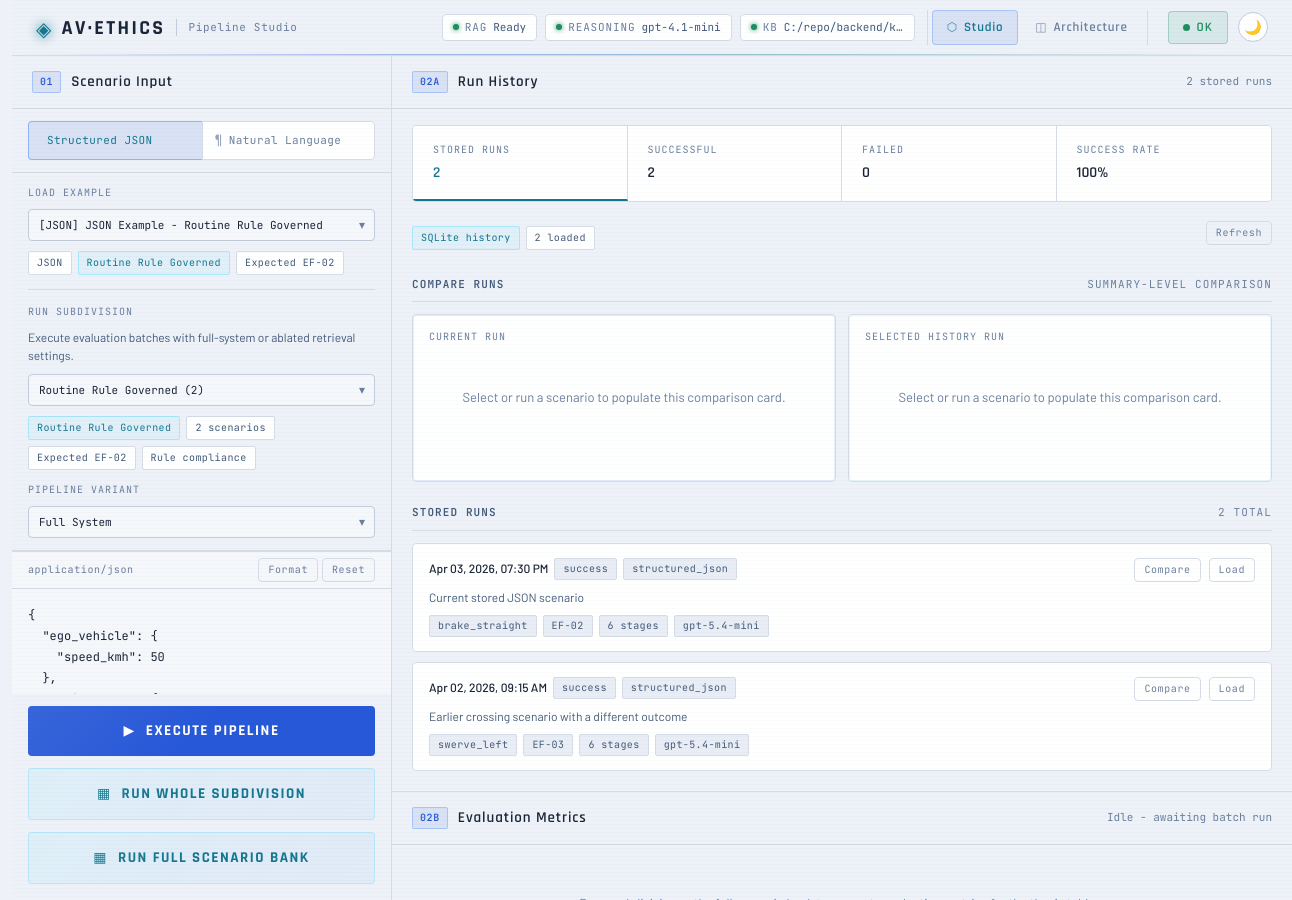
Test: App › passes the selected ablation variant to full-bank evaluation runs
Select "No RAG Ablation" in the dropdown labelled "Pipeline Variant" at x=202, y=522, box [28, 506, 375, 538]
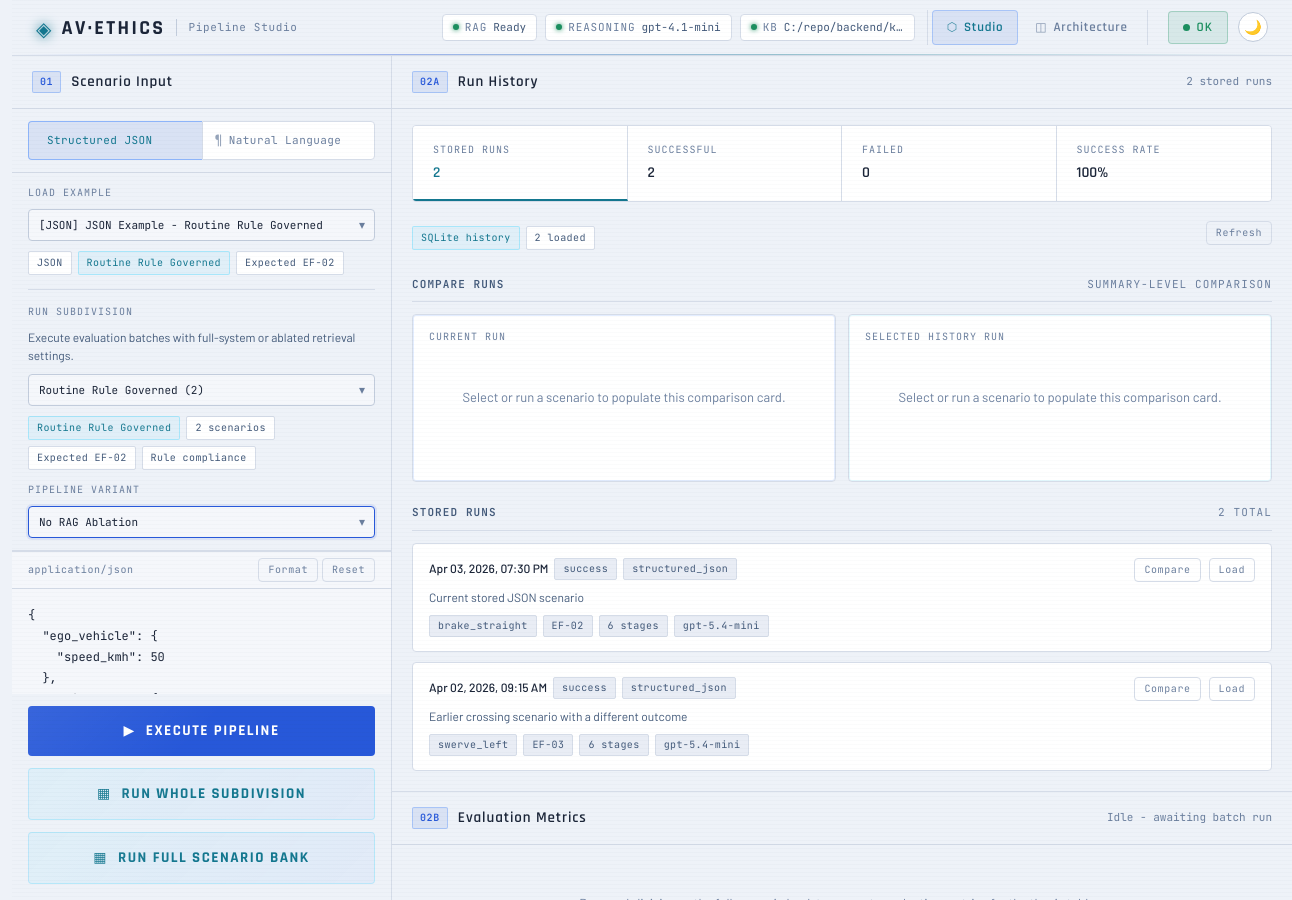
Click the button "▦ Run Full Scenario Bank" at x=202, y=858, box [28, 832, 375, 884]
(page scrolled)
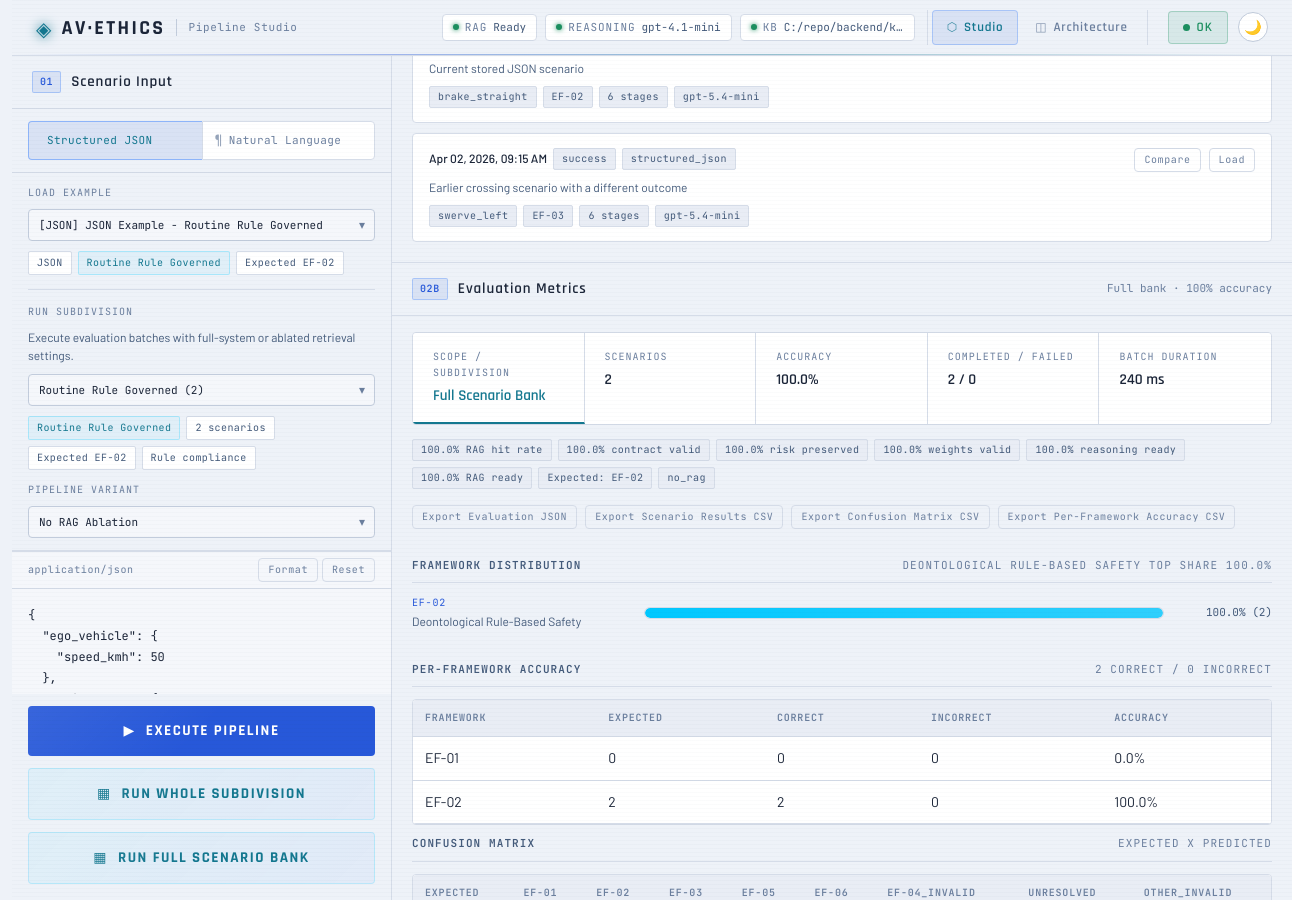
Expected: the text "no_rag" is shown, [658, 467, 715, 489]
